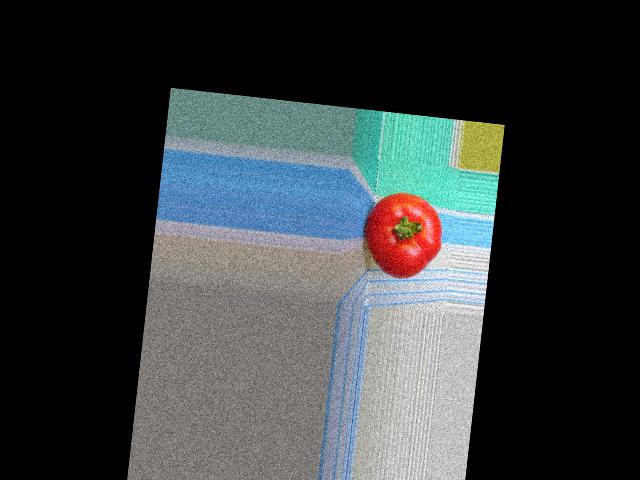tomato: (359, 188, 446, 281)
